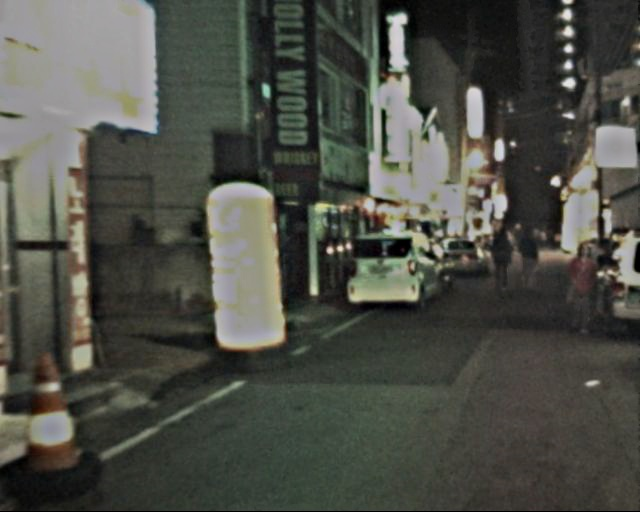person: (564, 243, 606, 335), (513, 226, 550, 301), (489, 228, 524, 299)
